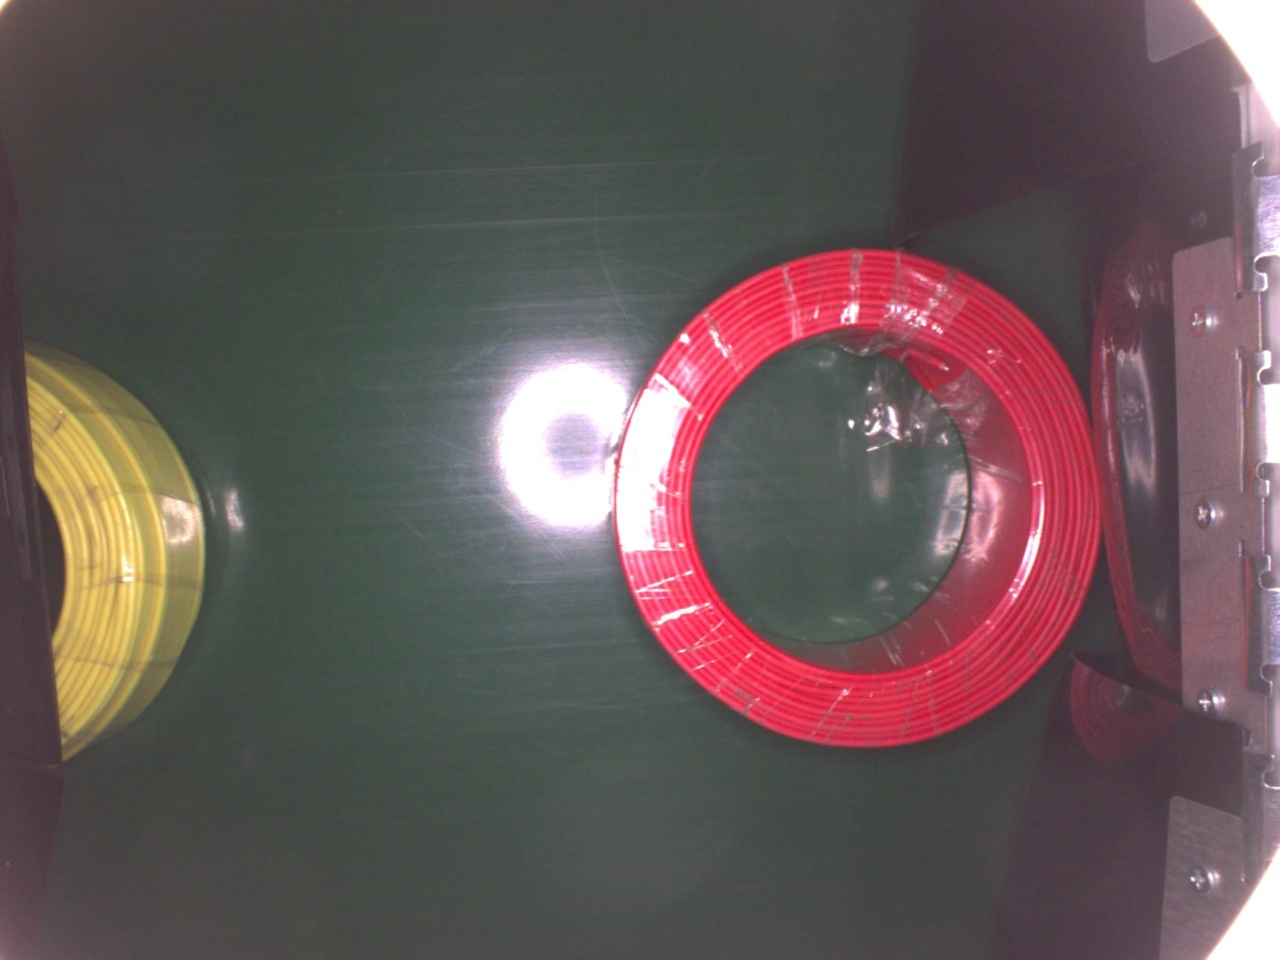red: (608, 248, 1100, 752)
yellow: (23, 337, 212, 764)
